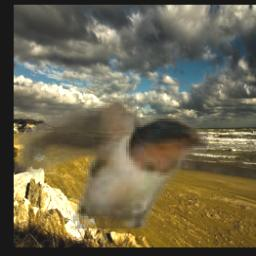Swallow: (16, 98, 208, 229)
